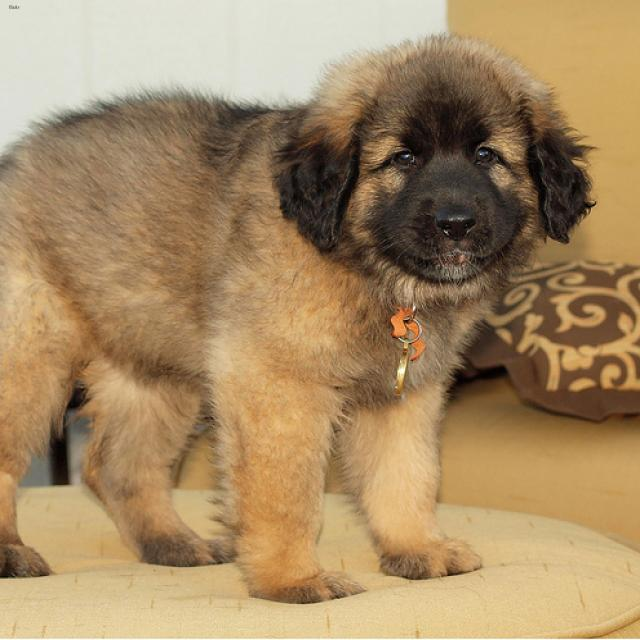dog-leonberger: (1, 24, 612, 617)
